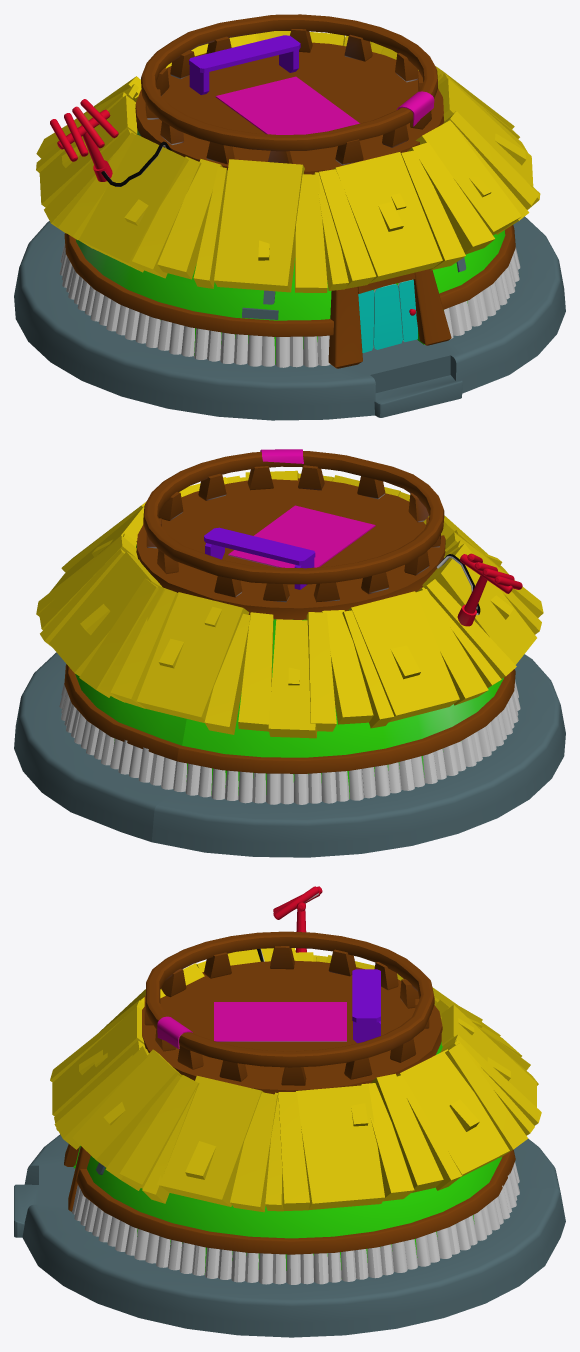
File: house_low.fbx
The picture shows the model from 3 angles, top to bottom: view 1: azimuth 30°, elevation 25°; view 2: azimuth 150°, elevation 25°; view 3: azimuth 270°, elevation 25°; orthographic projection.
Visible parts, largest first — view 1: Circle.024; view 2: Circle.024; view 3: Circle.024.
Part boxes in pixels (box(x1,y1,x2,y2)): Circle.024: box(14, 14, 565, 420); Circle.024: box(14, 449, 565, 857); Circle.024: box(14, 886, 565, 1337).
Size of the model in its own units: 103 by 50.07 by 104.
